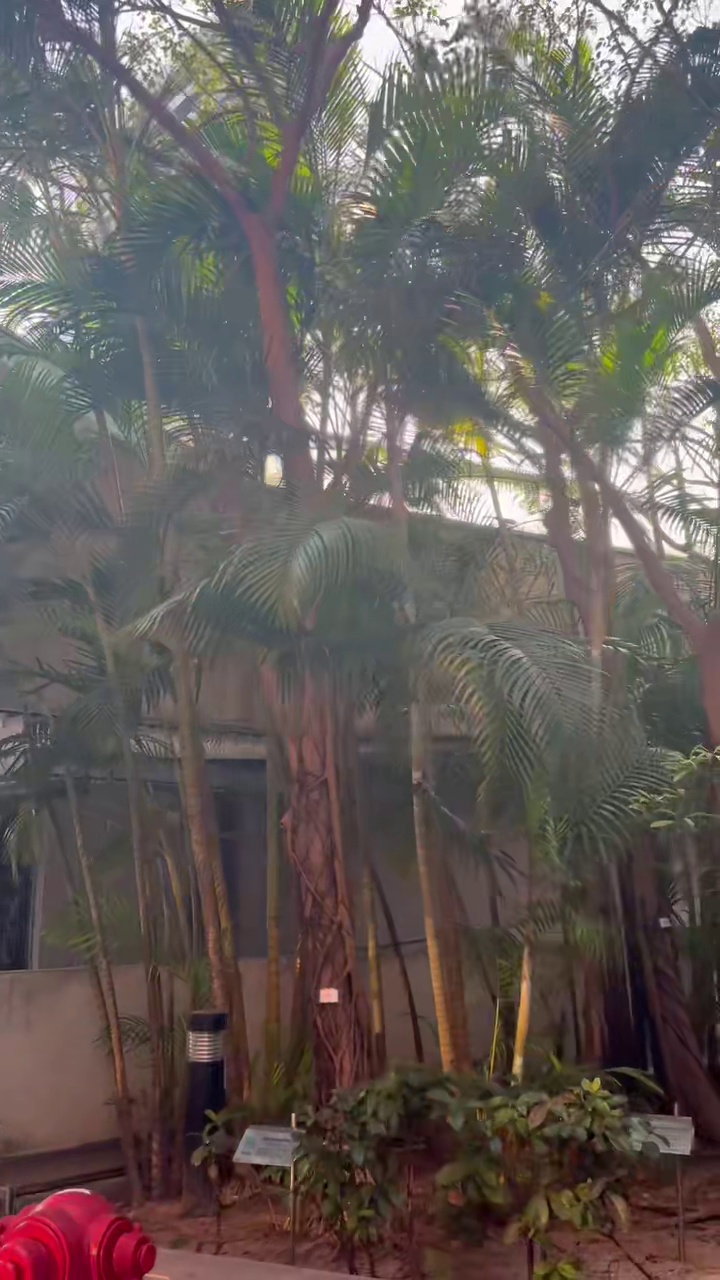Ficus benjamina: (41, 0, 378, 1102)
